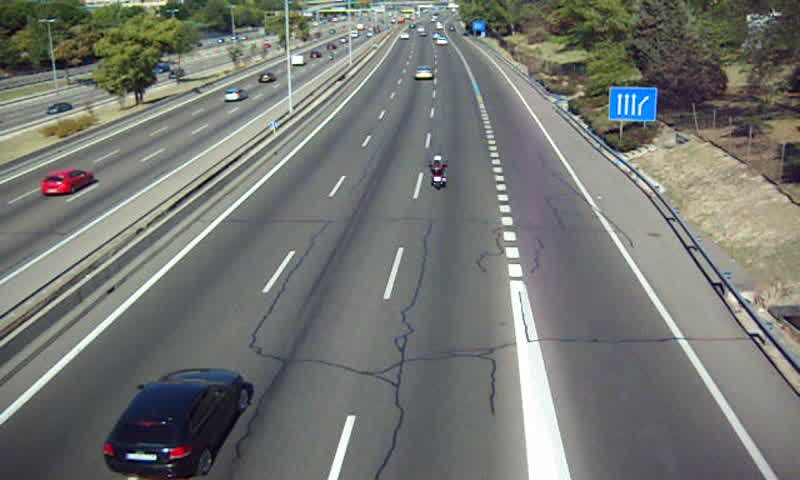car: (103, 370, 250, 478), (412, 67, 433, 82)
motorcycle: (428, 155, 449, 190)
